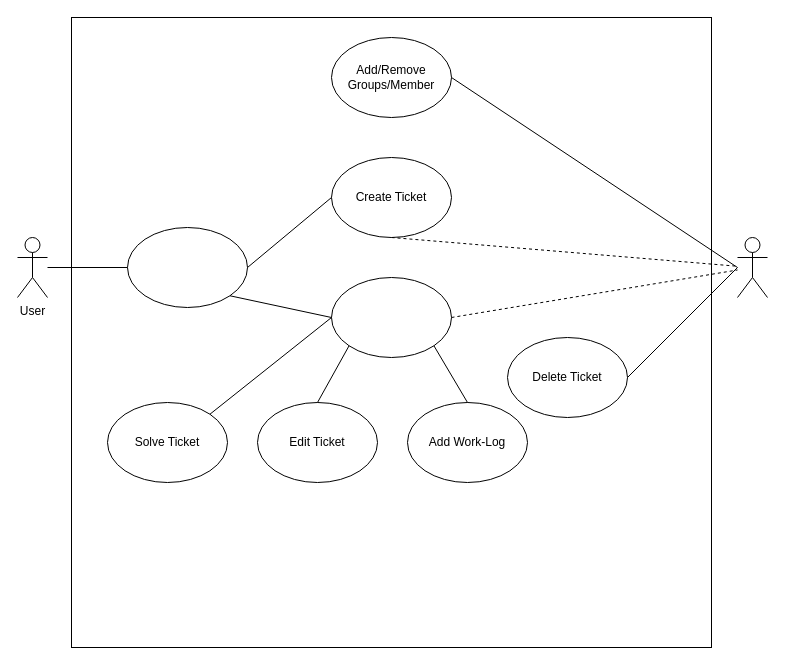
This 787x665 diagram has some shape labels left out. The centre of each missing label's shape, as x and y in pixels:
"Admin" belongs at pixel 752 267.
"Login/Change Account" belongs at pixel 187 267.
"View Ticket" belongs at pixel 391 317.
